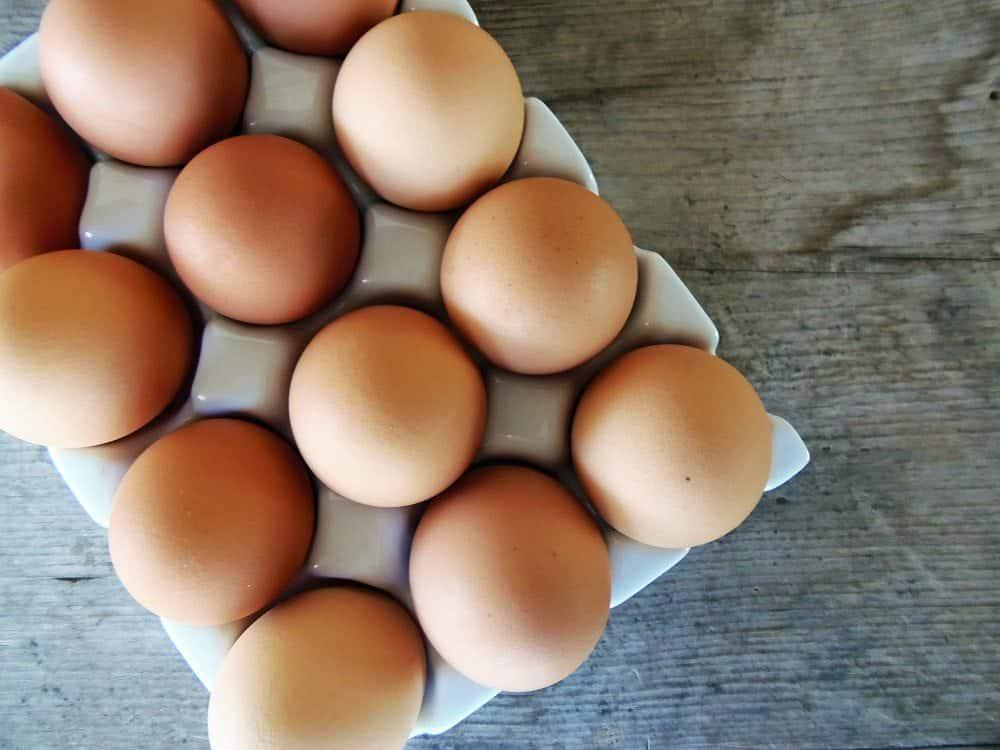egg: (399, 453, 618, 694), (555, 334, 779, 553), (101, 412, 321, 630), (273, 299, 496, 514), (158, 125, 367, 340), (435, 166, 643, 382), (323, 7, 532, 217), (0, 248, 194, 447), (37, 0, 245, 161)
